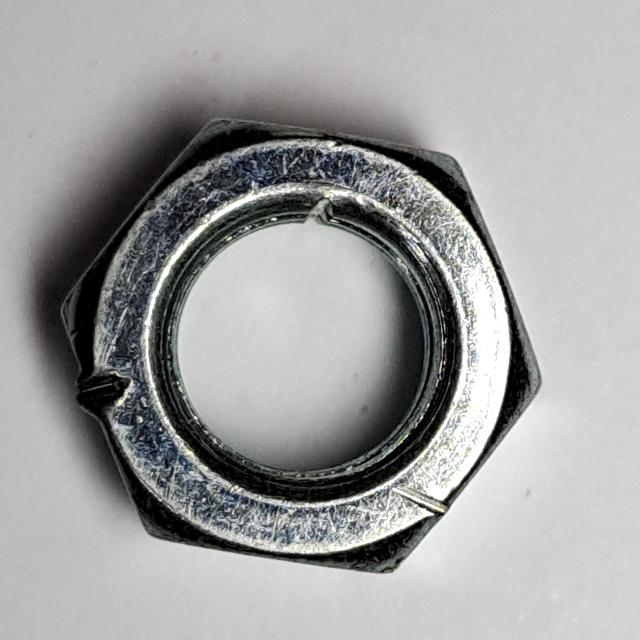Scratches: (47, 102, 557, 584)
